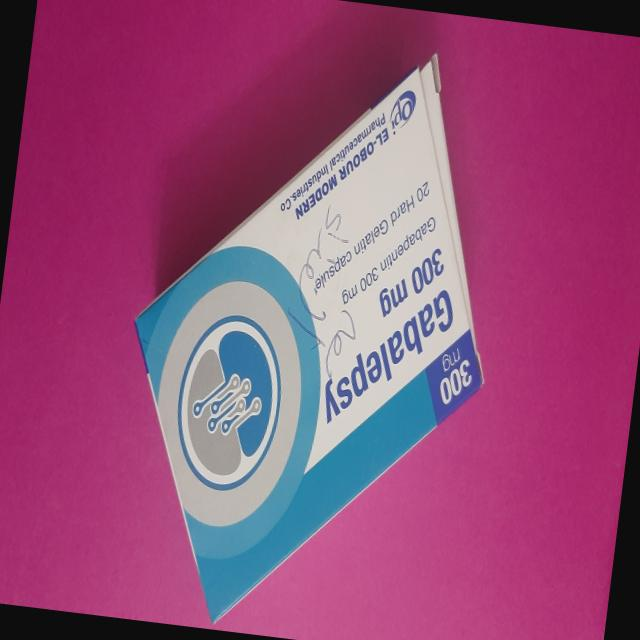medicine_packaging: (82, 15, 533, 640)
